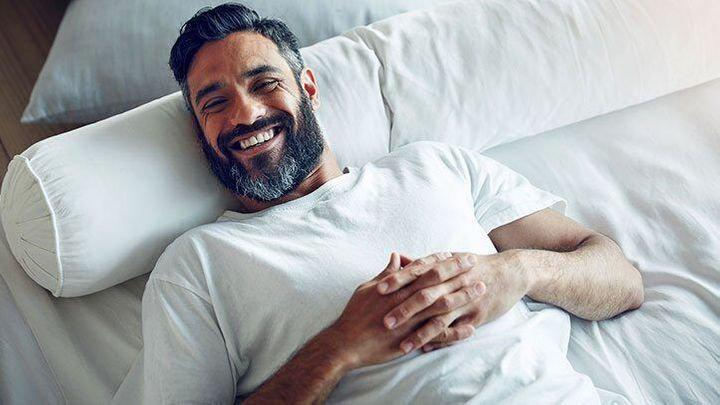Sober: (187, 46, 307, 175)
